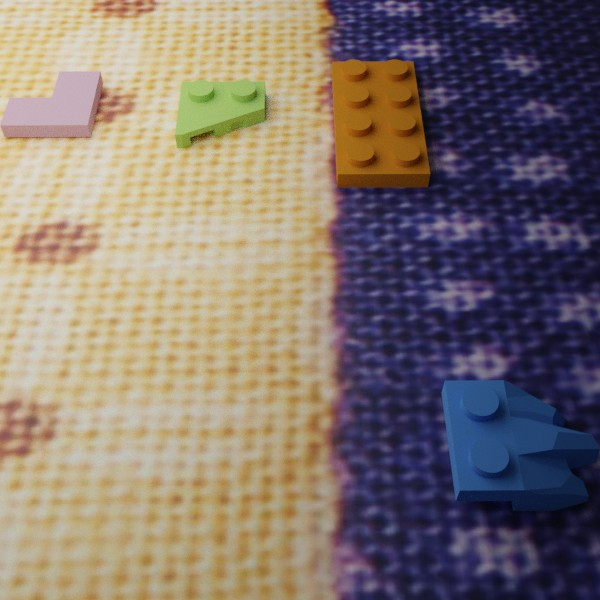lego: (441, 380, 600, 511), (331, 59, 430, 187), (0, 71, 103, 137), (174, 79, 265, 148)
